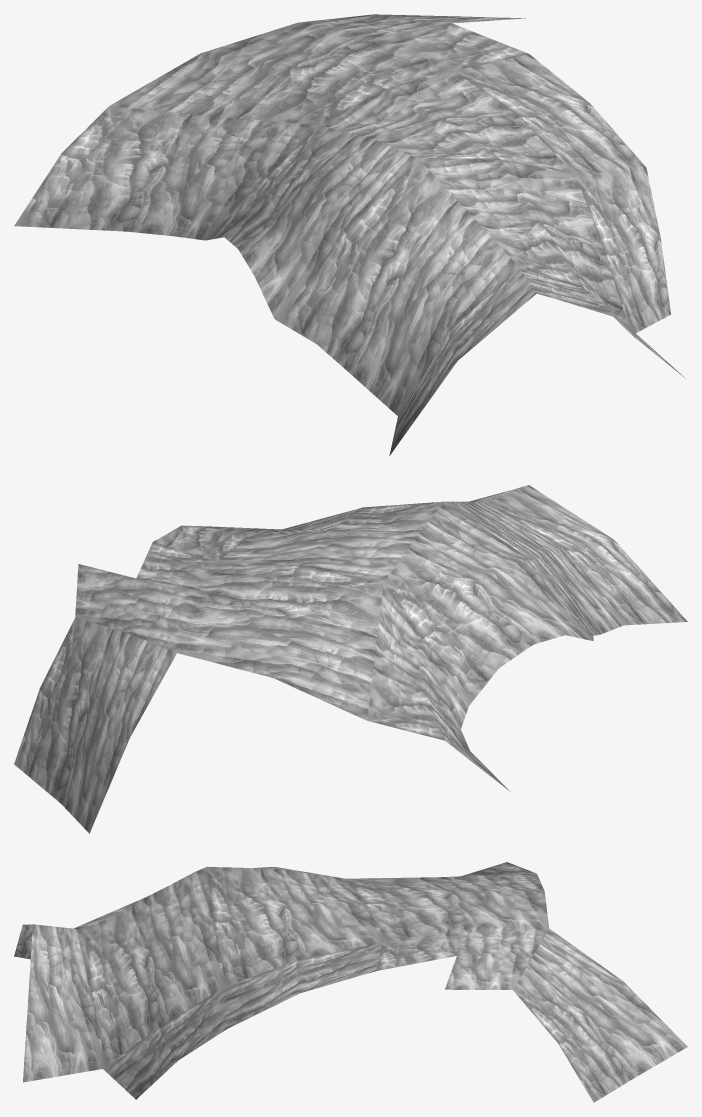
Rendered from SWORDLIGHT20_PS-AREA03_49.fbx.
3 renders of one model, top to bottom at view 1: azimuth 30°, elevation 25°; view 2: azimuth 150°, elevation 25°; view 3: azimuth 270°, elevation 25°, orthographic. The views are drawn at different scales.
Parts seen in each view (by area): view 1: SWORDLIGHT20_PS-AREA03_49; view 2: SWORDLIGHT20_PS-AREA03_49; view 3: SWORDLIGHT20_PS-AREA03_49.
Boxes of the visible parts, x1,y1,x2,y2 form: SWORDLIGHT20_PS-AREA03_49: (14, 14, 686, 455); SWORDLIGHT20_PS-AREA03_49: (14, 485, 687, 833); SWORDLIGHT20_PS-AREA03_49: (14, 862, 687, 1102).
Bounding box in the file's own units: 251603 × 88383 × 358228.
1 material, 1 textured.
